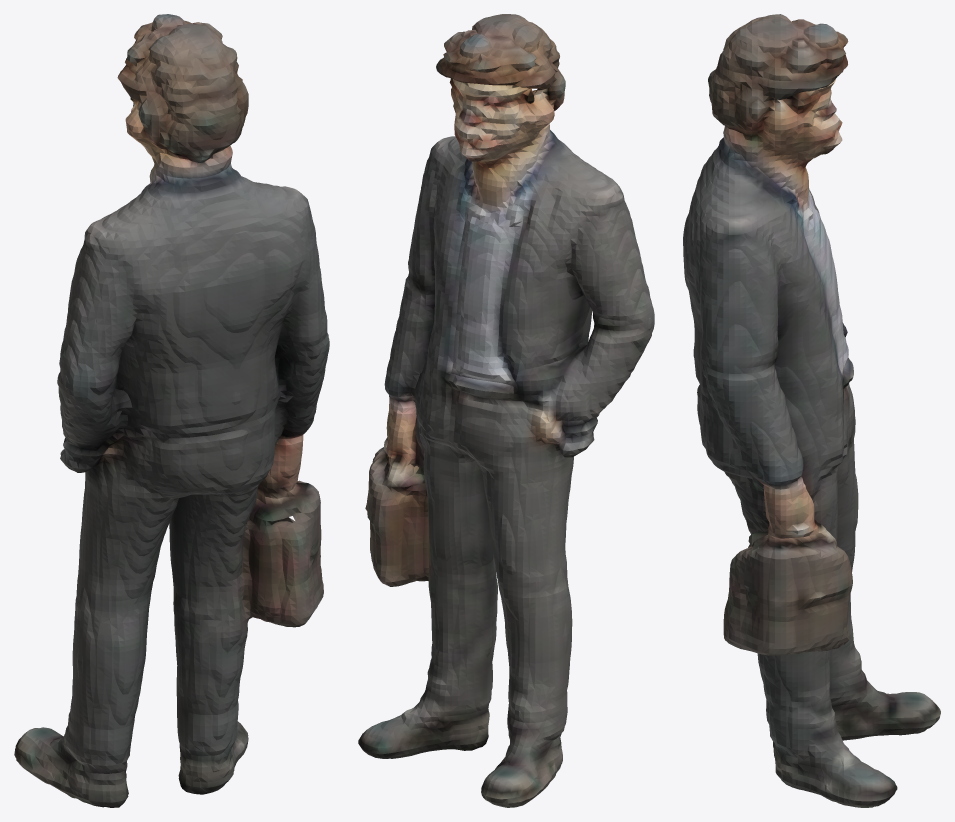
Rendered from guest-v4.glb.
3 views of the same model, side by side, from view 1: azimuth 30°, elevation 25°; view 2: azimuth 150°, elevation 25°; view 3: azimuth 270°, elevation 25° (orthographic). The views are drawn at different scales.
Visible parts, largest first — view 1: world; view 2: world; view 3: world.
Part boxes in pixels (x1=…): world: x1=14, y1=14, x2=329, y2=807; world: x1=358, y1=14, x2=654, y2=807; world: x1=683, y1=14, x2=940, y2=807.
Bounding box in the file's own units: 0.362 × 0.9828 × 0.3058.
